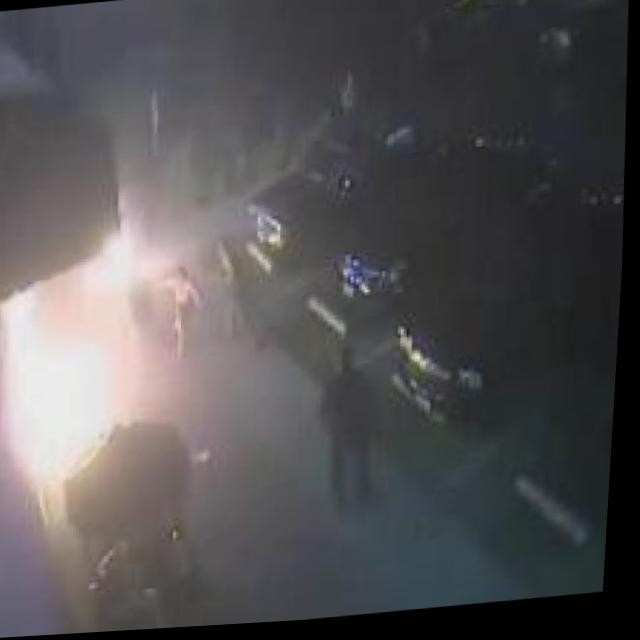fire: (0, 217, 163, 490)
